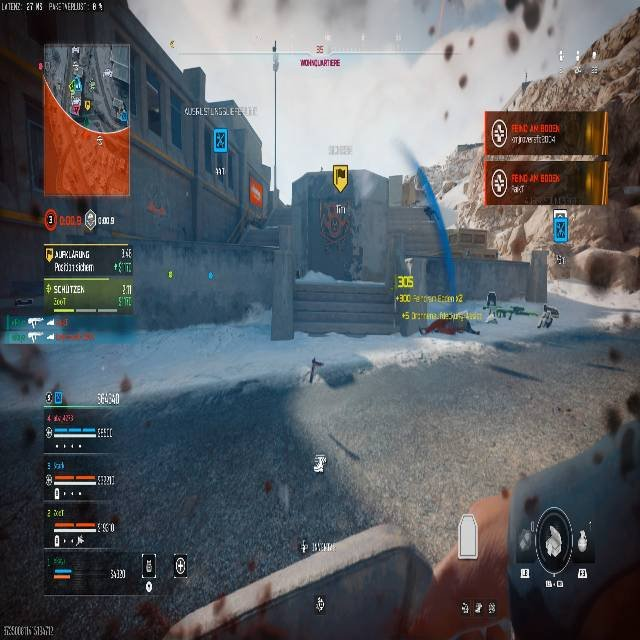player: (537, 303, 560, 329)
